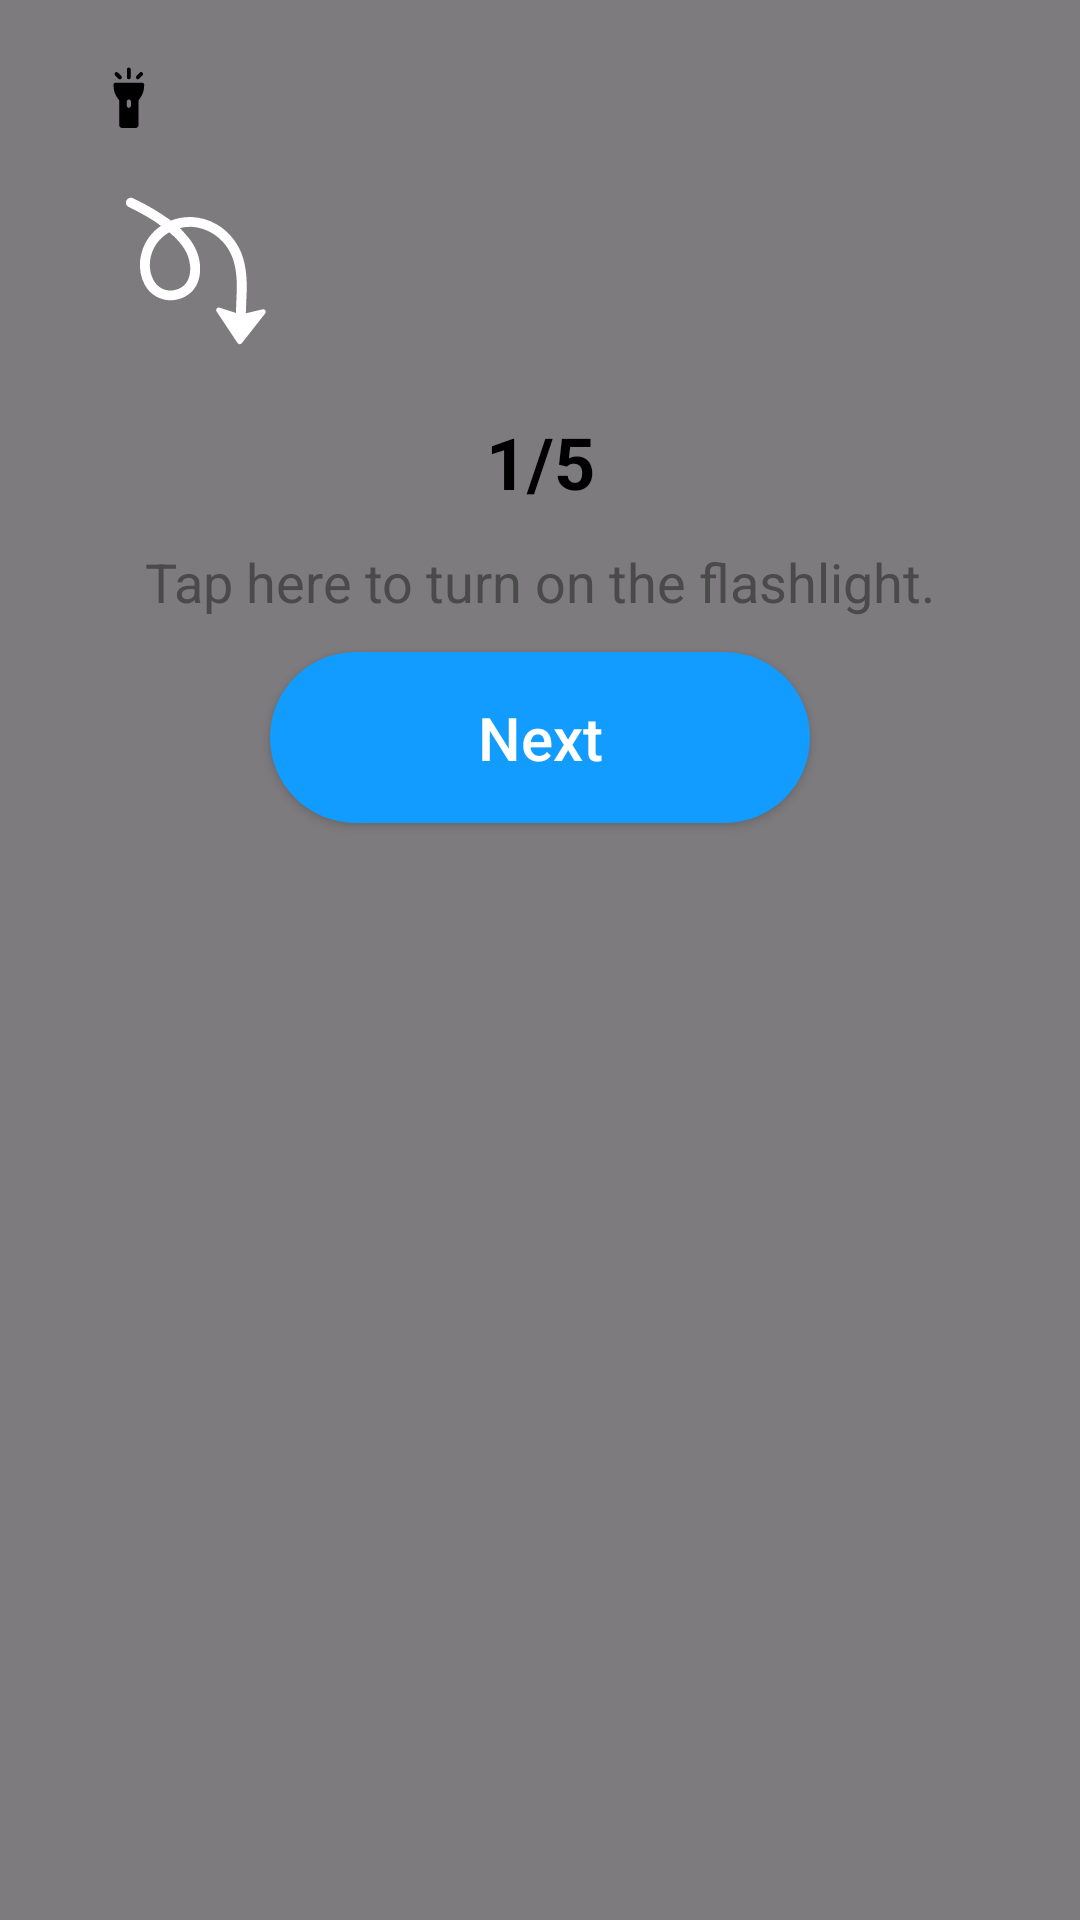

Screen size 1080w x 1920h. Icon name, then its center in pixels as point (x, y):
arrow: point (196, 270)
Open Flash: point (129, 97)
